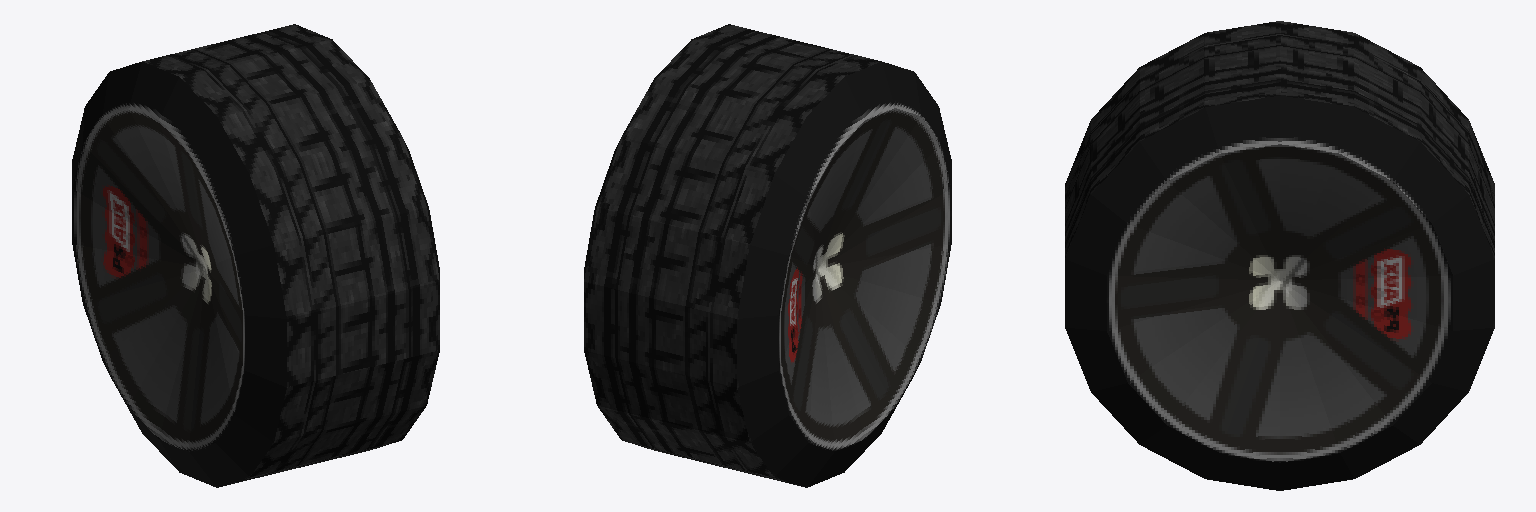
3 renders of one model, left to right at view 1: azimuth 30°, elevation 25°; view 2: azimuth 150°, elevation 25°; view 3: azimuth 270°, elevation 25°, orthographic.
Visible parts, largest first — view 1: wheel_Cylinder01x; view 2: wheel_Cylinder01x; view 3: wheel_Cylinder01x.
Part boxes in pixels (x1,y1,x2,y2): wheel_Cylinder01x: (72,24,439,487); wheel_Cylinder01x: (584,24,951,487); wheel_Cylinder01x: (1065,21,1494,490).
Size of the model in its own units: 30.68 by 59.69 by 58.78.
1 materials, 1 textured.